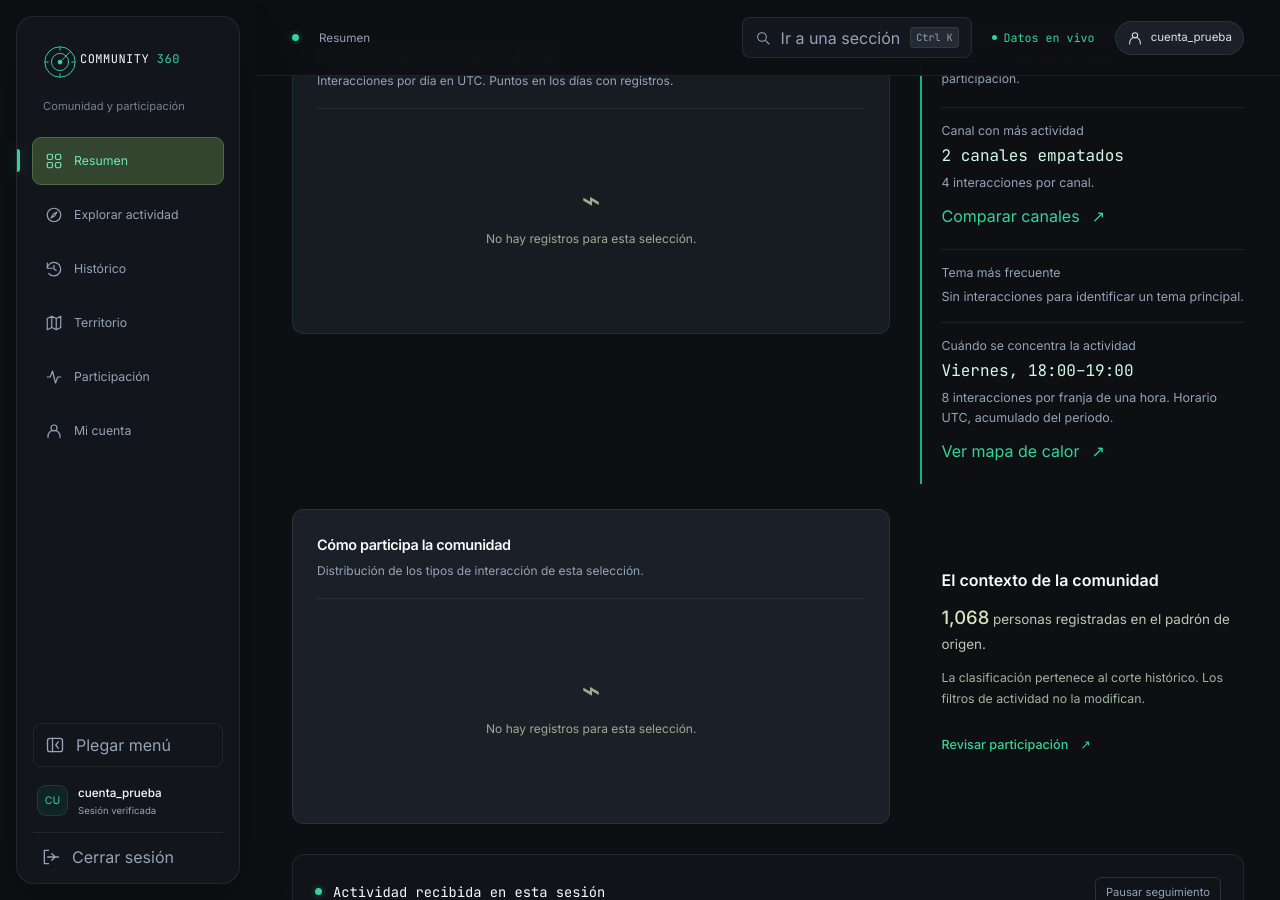
Test: Actividad en tiempo real › abre el horario destacado y muestra los empates sin inventar un ganador
(page scrolled)
Check: the text "Sesión verificada" is shown, box [78,804,162,816]
Check: the text "2 canales empatados" is shown, box [942,145,1124,166]
Click the button "Ver mapa de calor ↗".
click(1023, 451)  # box [942,433,1105,469]
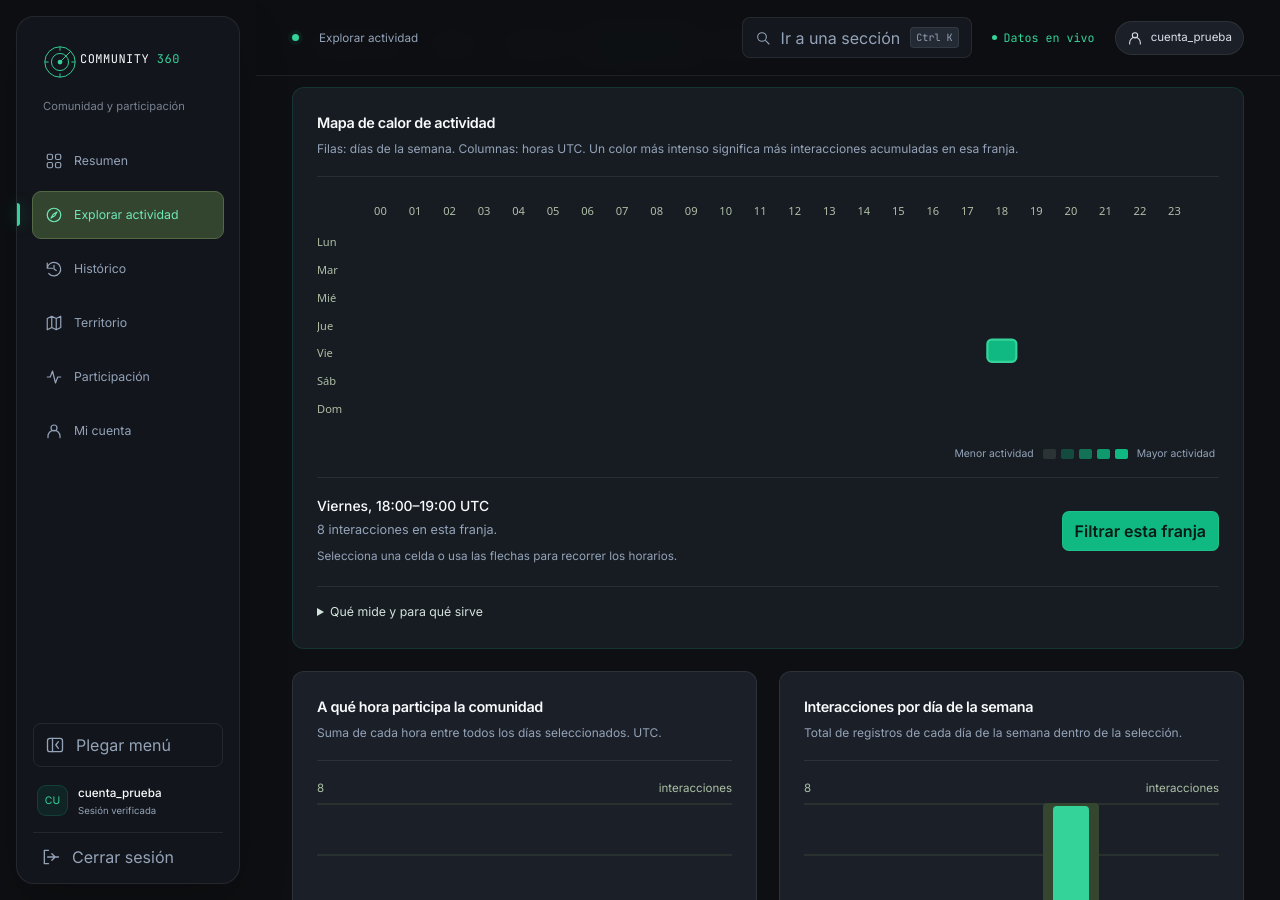
Check: the picture named "Mapa de calor de interacciones por día de la semana y hora UTC" is shown, box [317,197,1219,447]
